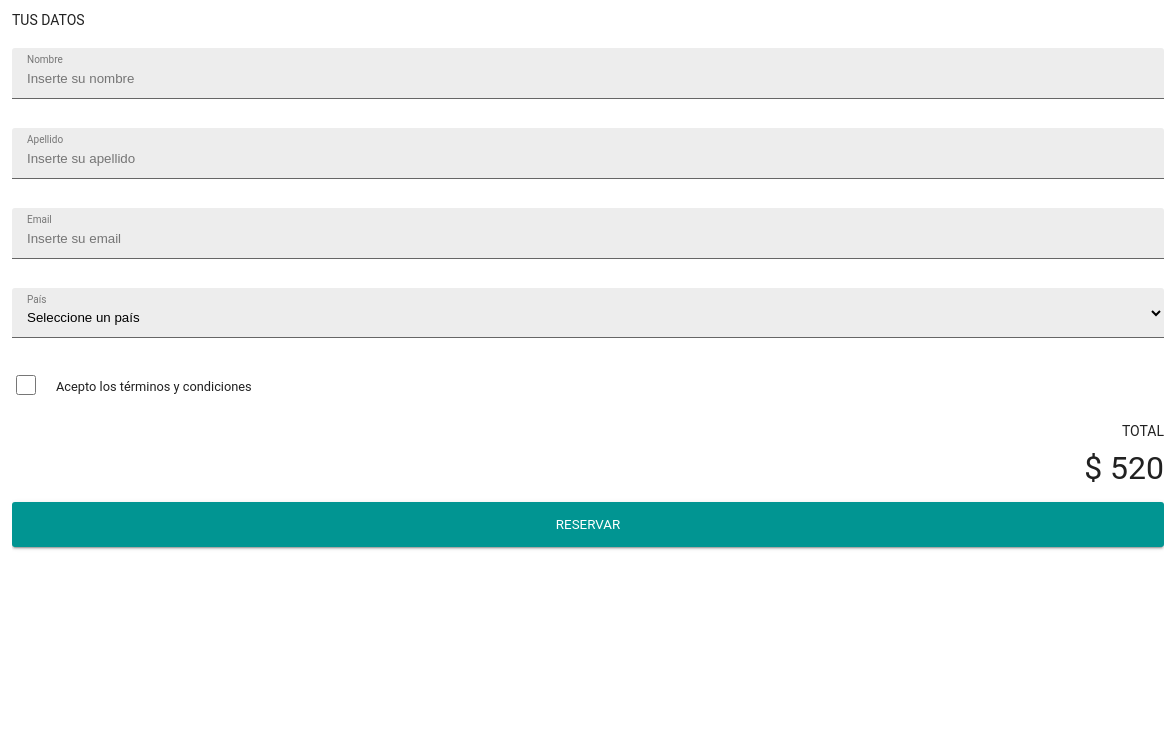
Test: RoomCardInfo › show UserForm error messages
Click the button "Reservar" at coordinates (588, 524), box x1=12 y1=502 x2=1164 y2=547
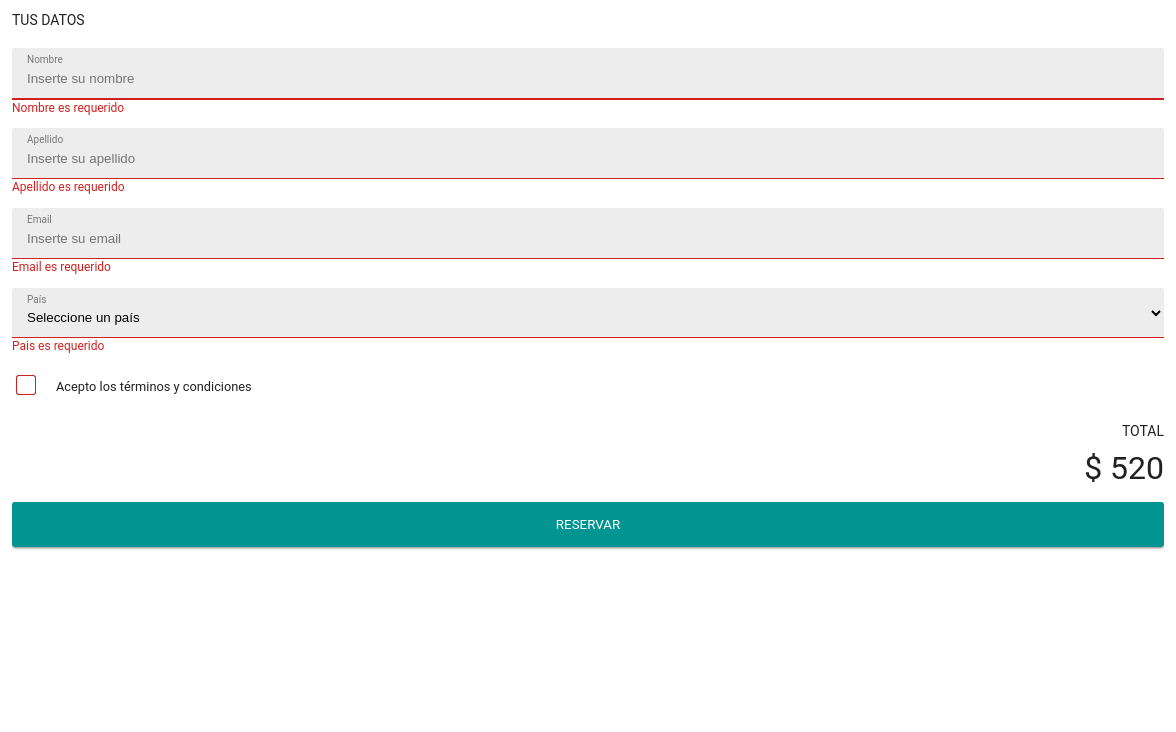
Check: the text "Nombre es requerido" is shown, box x1=12 y1=101 x2=124 y2=115
Check: the text "Apellido es requerido" is shown, box x1=12 y1=180 x2=124 y2=194
Check: the text "Email es requerido" is shown, box x1=12 y1=260 x2=111 y2=274
